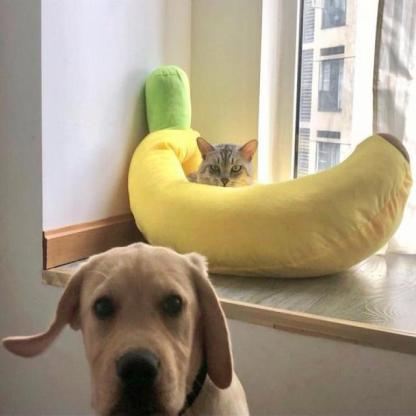cat: (186, 129, 260, 192)
dog: (7, 240, 232, 414)
